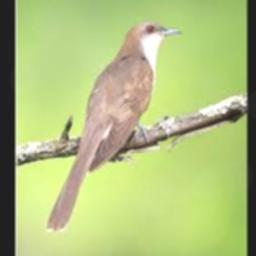Cuckoo: (47, 22, 182, 230)
